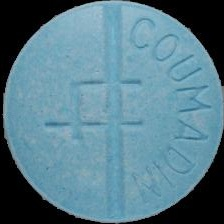0056-0168: (0, 0, 224, 224)
